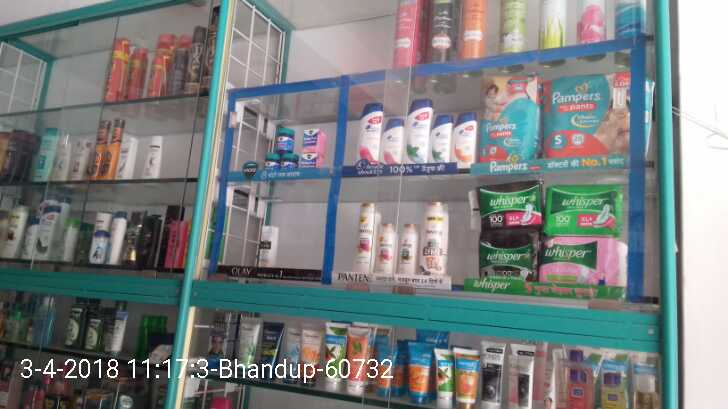vicks: (264, 126, 325, 168)
